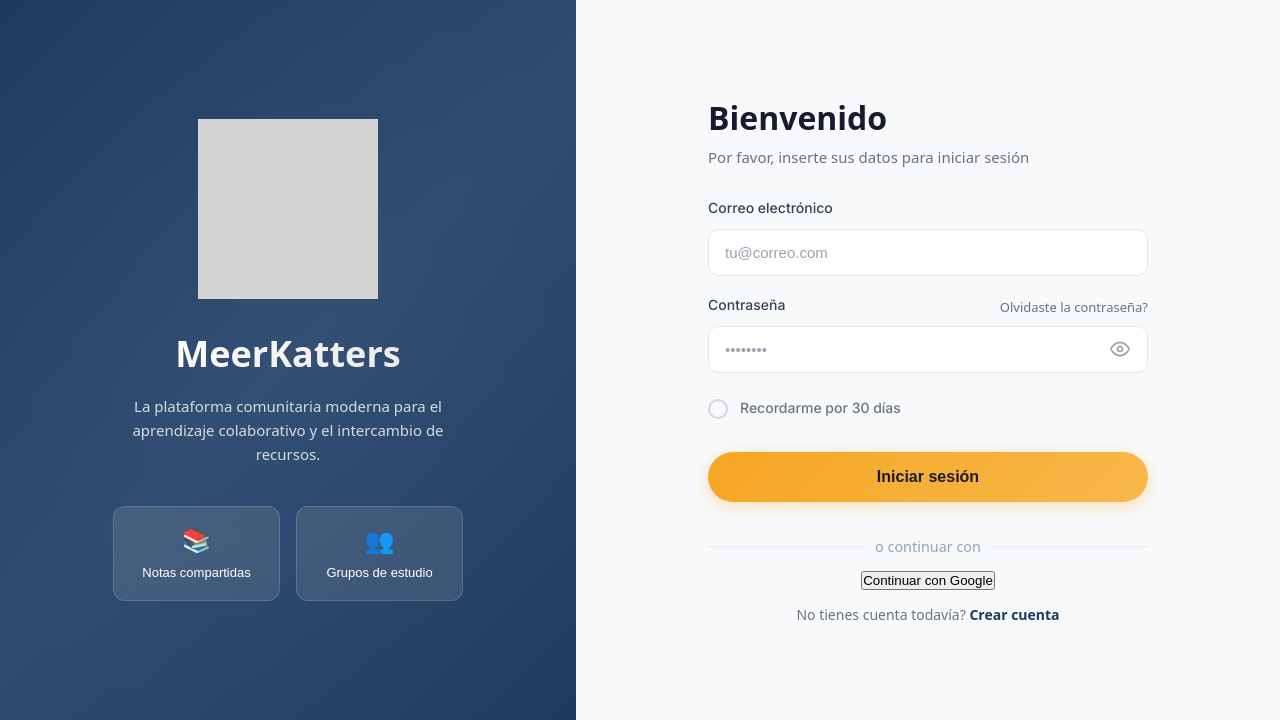
Scenario: Login › Google auth 2FA
What coordinates should you click on to do the following:
click the button with test id "google-auth-btn"
I would click on:
 (928, 580)
Its box is [861,571,995,590].
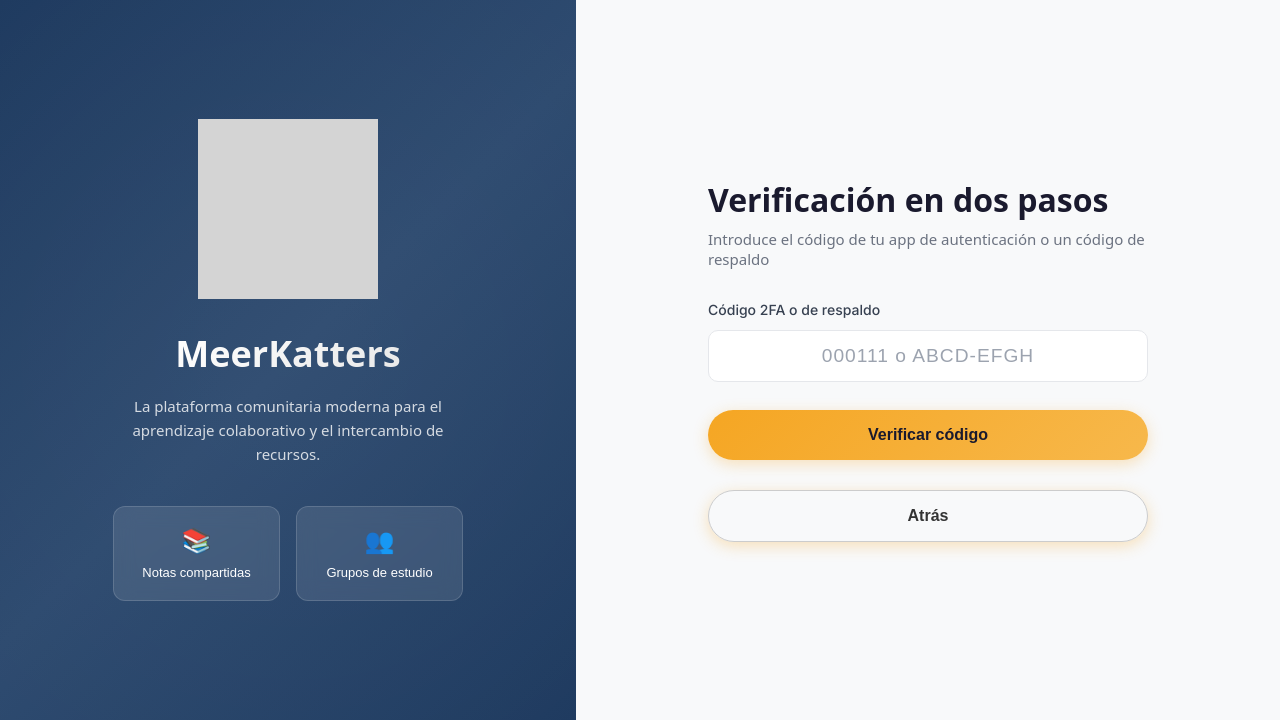
Expected: the heading "Verificación en dos pasos" is shown, [708,178,1148,221]
